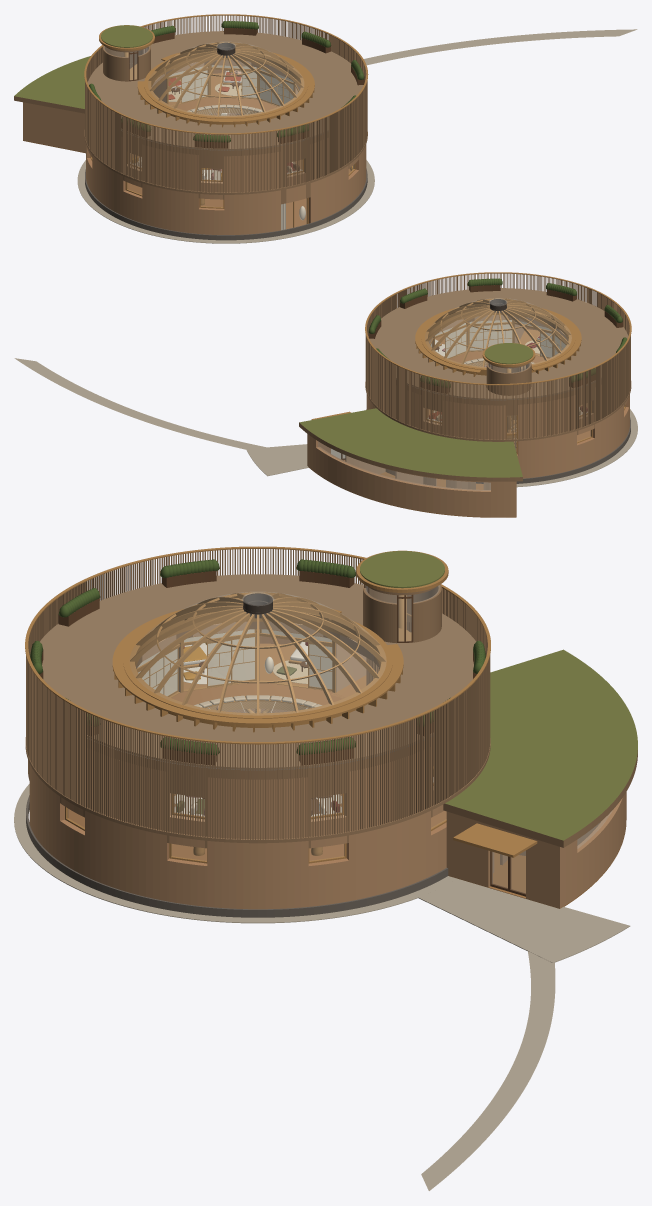
Rendered from tempel.glb.
The picture shows the model from 3 angles, top to bottom: view 1: azimuth 30°, elevation 25°; view 2: azimuth 150°, elevation 25°; view 3: azimuth 270°, elevation 25°; orthographic projection. The views are drawn at different scales.
Parts seen in each view (by area): view 1: facade_battens, outer_wall, terrace_deck, dome_glass, dome_ribs, annex_roof, annex_walls, site_gravel_drip_strip, site_path, dome_base_ring, plinth, terrace_bench_ring (+12 smaller); view 2: facade_battens, terrace_deck, outer_wall, annex_roof, annex_walls, dome_glass, dome_ribs, site_path, site_forecourt, dome_base_ring, annex_glass, terrace_grasses (+12 smaller); view 3: facade_battens, outer_wall, terrace_deck, annex_roof, dome_glass, dome_ribs, annex_walls, site_forecourt, site_path, dome_base_ring, terrace_bench_ring, plinth (+16 smaller).
Part boxes in pixels (x1,y1,x2,y2): facade_battens: [85, 15, 367, 192]; outer_wall: [86, 69, 366, 234]; terrace_deck: [88, 31, 363, 150]; dome_glass: [148, 42, 303, 116]; dome_ribs: [148, 42, 303, 116]; annex_roof: [14, 56, 90, 113]; annex_walls: [23, 102, 85, 152]; site_gravel_drip_strip: [77, 160, 374, 243]; site_path: [364, 29, 637, 65]; dome_base_ring: [144, 53, 308, 124]; plinth: [85, 168, 367, 240]; terrace_bench_ring: [137, 52, 314, 127]; facade_battens: [365, 273, 630, 439]; terrace_deck: [368, 288, 628, 399]; outer_wall: [366, 327, 629, 478]; annex_roof: [299, 408, 522, 481]; annex_walls: [307, 434, 516, 517]; dome_glass: [425, 298, 571, 367]; dome_ribs: [425, 298, 571, 367]; site_path: [14, 358, 265, 449]; site_forecourt: [246, 444, 345, 476]; dome_base_ring: [421, 308, 575, 375]; annex_glass: [318, 442, 490, 490]; terrace_grasses: [368, 278, 627, 387]; facade_battens: [26, 549, 490, 839]; outer_wall: [28, 622, 446, 909]; terrace_deck: [40, 574, 476, 769]; annex_roof: [443, 649, 637, 847]; dome_glass: [130, 592, 385, 714]; dome_ribs: [130, 592, 386, 715]; annex_walls: [446, 792, 626, 908]; site_forecourt: [418, 879, 630, 962]; site_path: [421, 951, 555, 1190]; dome_base_ring: [123, 612, 392, 727]; terrace_bench_ring: [112, 607, 403, 732]; plinth: [26, 795, 448, 917].
Bounding box in the file's own units: 48.79 × 10.88 × 27.1.
